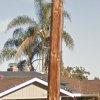Palm tree: (14, 7, 49, 70)
